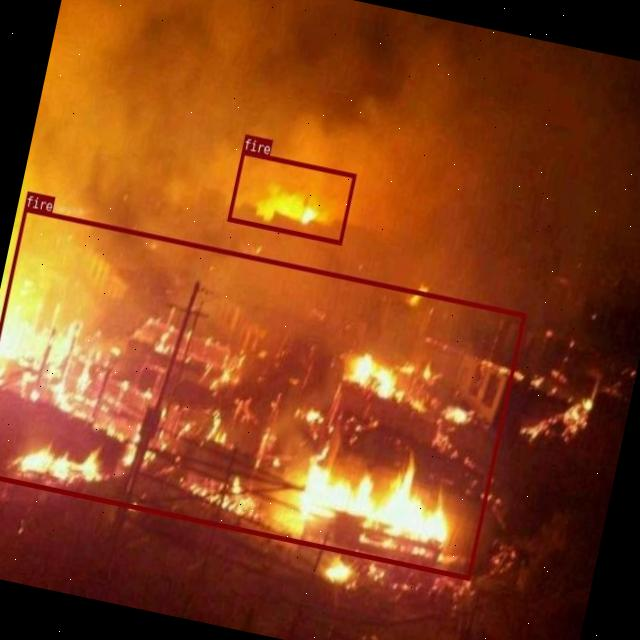fire: (0, 206, 524, 579), (227, 149, 355, 244)
